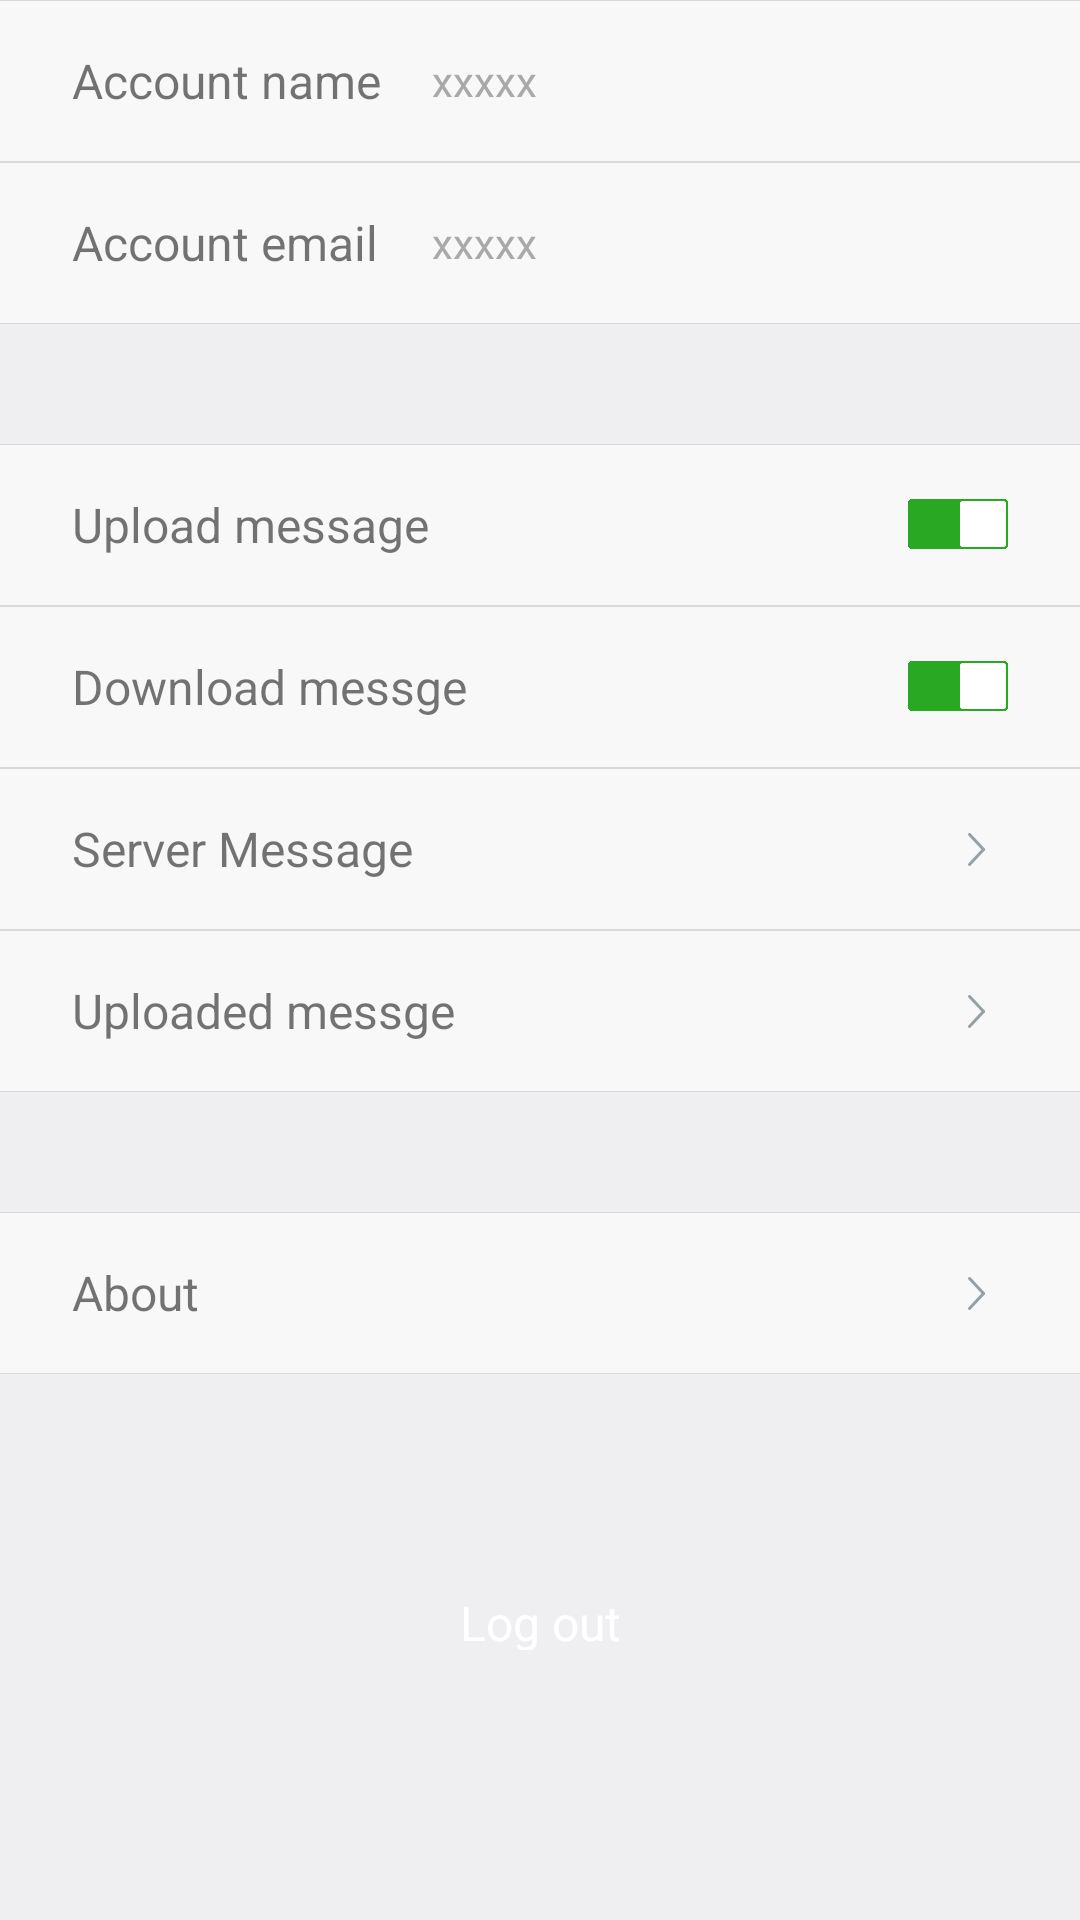

Point at icon controls on the screen. Image size 1080 x 1920, points as [x,y].
choice: [958,524], [958,686]
entrance arrow: [976,849], [976,1011], [976,1293]
